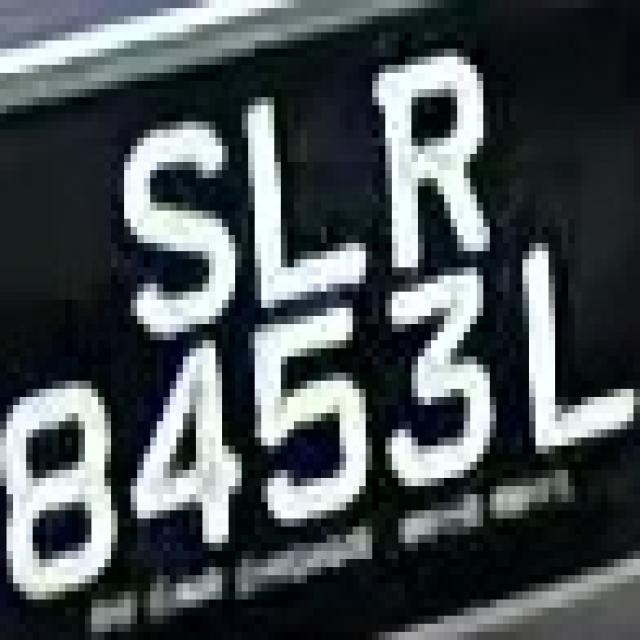3: (366, 260, 509, 502)
4: (105, 324, 242, 583)
5: (222, 308, 385, 535)
8: (7, 357, 124, 616)
L: (222, 65, 372, 308), (509, 219, 640, 470)
R: (353, 16, 496, 268)
S: (98, 98, 255, 348)
